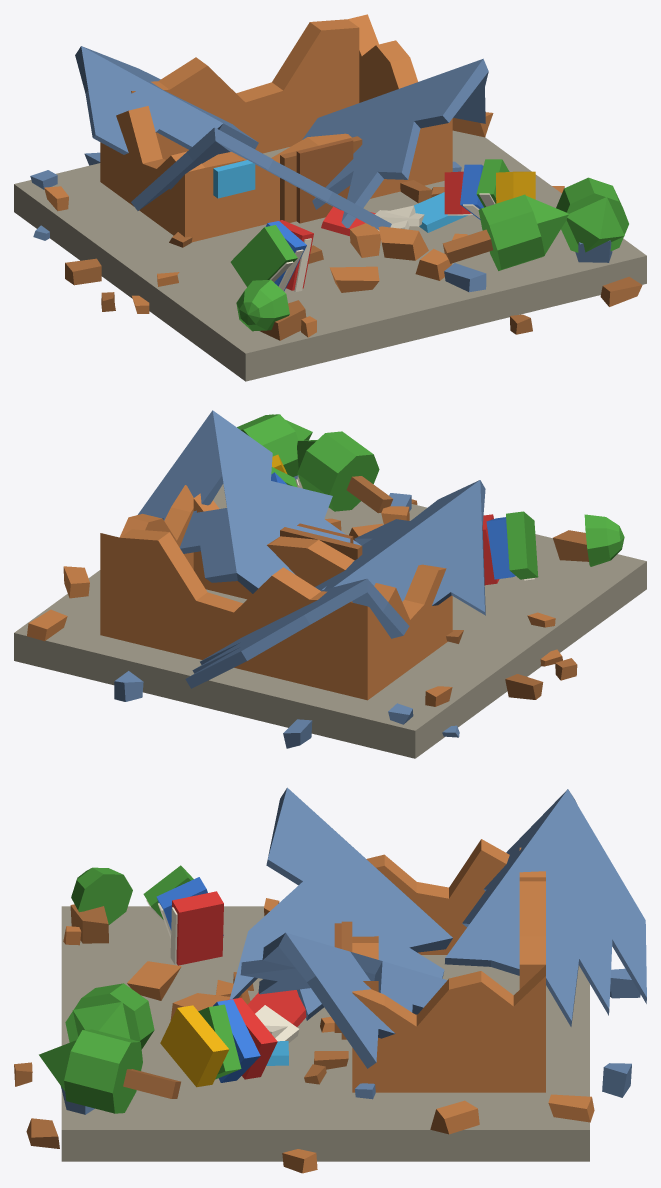
The model's file is library_t1_v2_dmg2.glb.
3 renders of one model, top to bottom at view 1: azimuth 30°, elevation 25°; view 2: azimuth 150°, elevation 25°; view 3: azimuth 270°, elevation 25°, orthographic. The views are drawn at different scales.
Parts seen in each view (by area): view 1: library_t1_v2_dmg2; view 2: library_t1_v2_dmg2; view 3: library_t1_v2_dmg2.
Boxes of the visible parts, left/top/right/bottom form: library_t1_v2_dmg2: left=14, top=14, right=646, bottom=381; library_t1_v2_dmg2: left=14, top=410, right=646, bottom=758; library_t1_v2_dmg2: left=14, top=787, right=646, bottom=1173.
Bounding box in the file's own units: 0.6912 × 0.2415 × 0.7186.
Materials: 1 (1 with a texture image).
